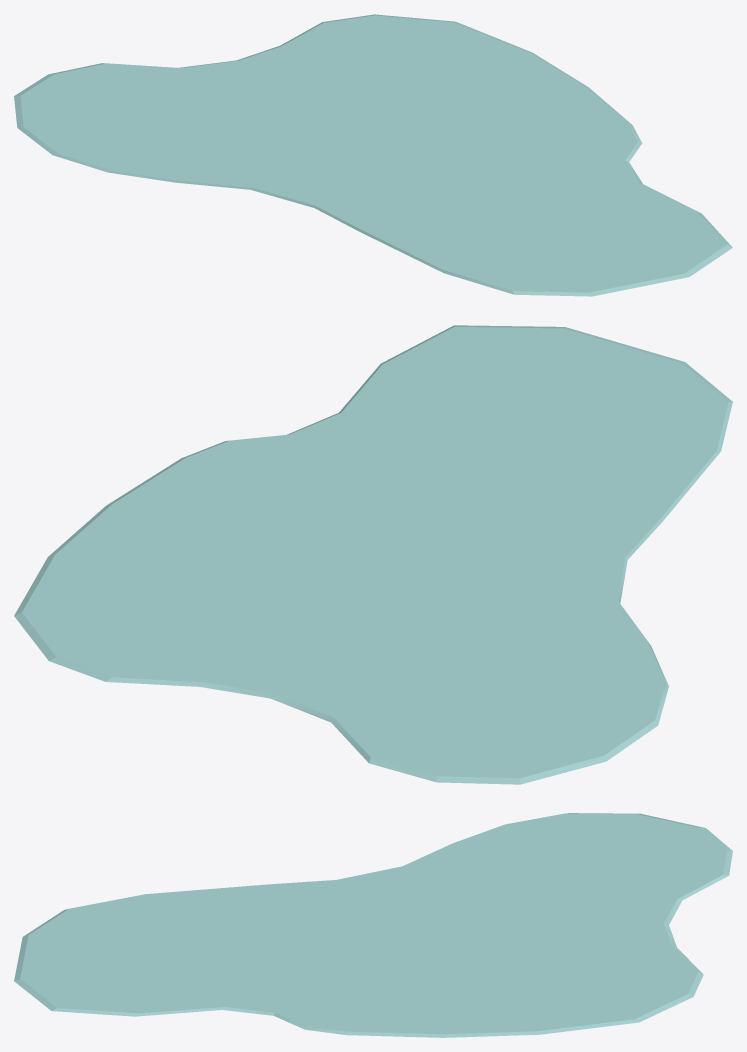
The model's file is lakes.fbx.
3 renders of one model, top to bottom at view 1: azimuth 30°, elevation 25°; view 2: azimuth 150°, elevation 25°; view 3: azimuth 270°, elevation 25°, orthographic. The views are drawn at different scales.
Parts seen in each view (by area): view 1: lakePlaceholder2; view 2: lakePlaceholder2; view 3: lakePlaceholder2.
Part boxes in pixels (bbox=[...]): lakePlaceholder2: bbox=[14, 14, 732, 296]; lakePlaceholder2: bbox=[14, 325, 732, 784]; lakePlaceholder2: bbox=[14, 813, 732, 1037].
Size of what is drawn, in the model's own units: 7.23 by 0.0247 by 9.78.
